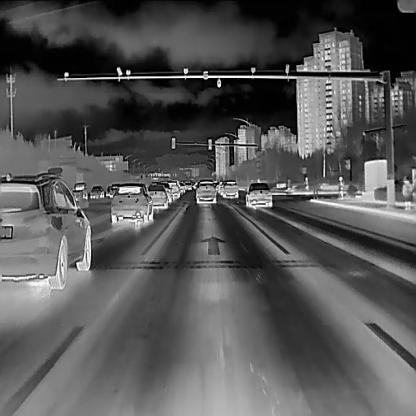car: (1, 164, 91, 292), (109, 183, 153, 223), (245, 181, 272, 207), (195, 180, 215, 205), (147, 182, 166, 208), (402, 175, 412, 209), (71, 181, 87, 202), (157, 182, 172, 203), (222, 179, 238, 197), (168, 181, 180, 199), (89, 185, 103, 199), (338, 176, 345, 201), (107, 185, 115, 199), (183, 180, 191, 191), (304, 177, 309, 190)
